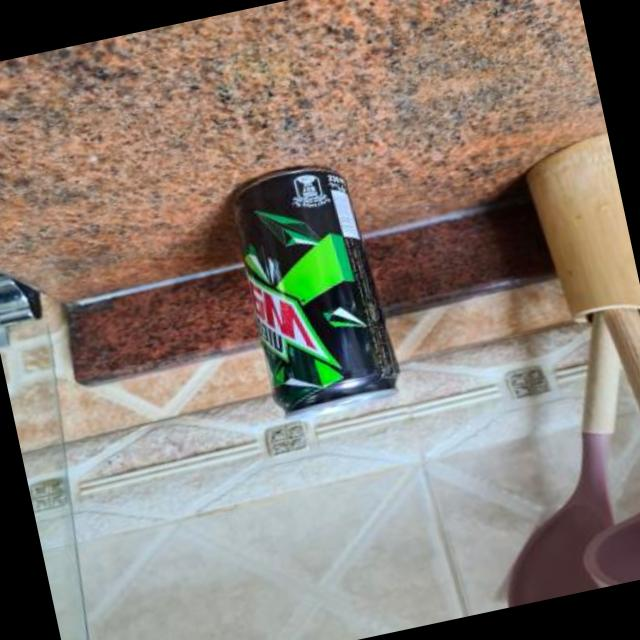metal: (233, 172, 396, 422)
